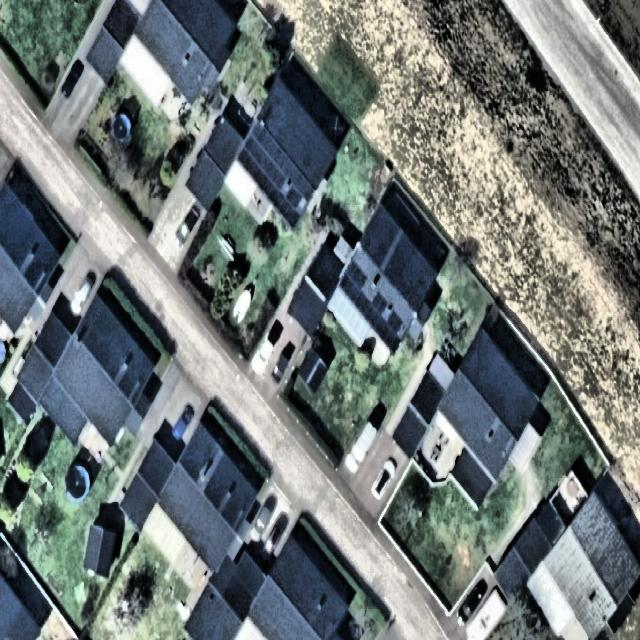roof_pv: (241, 130, 275, 206), (371, 314, 402, 349), (346, 291, 388, 315), (341, 261, 368, 289), (290, 161, 312, 192), (276, 195, 296, 224), (277, 142, 287, 184)
